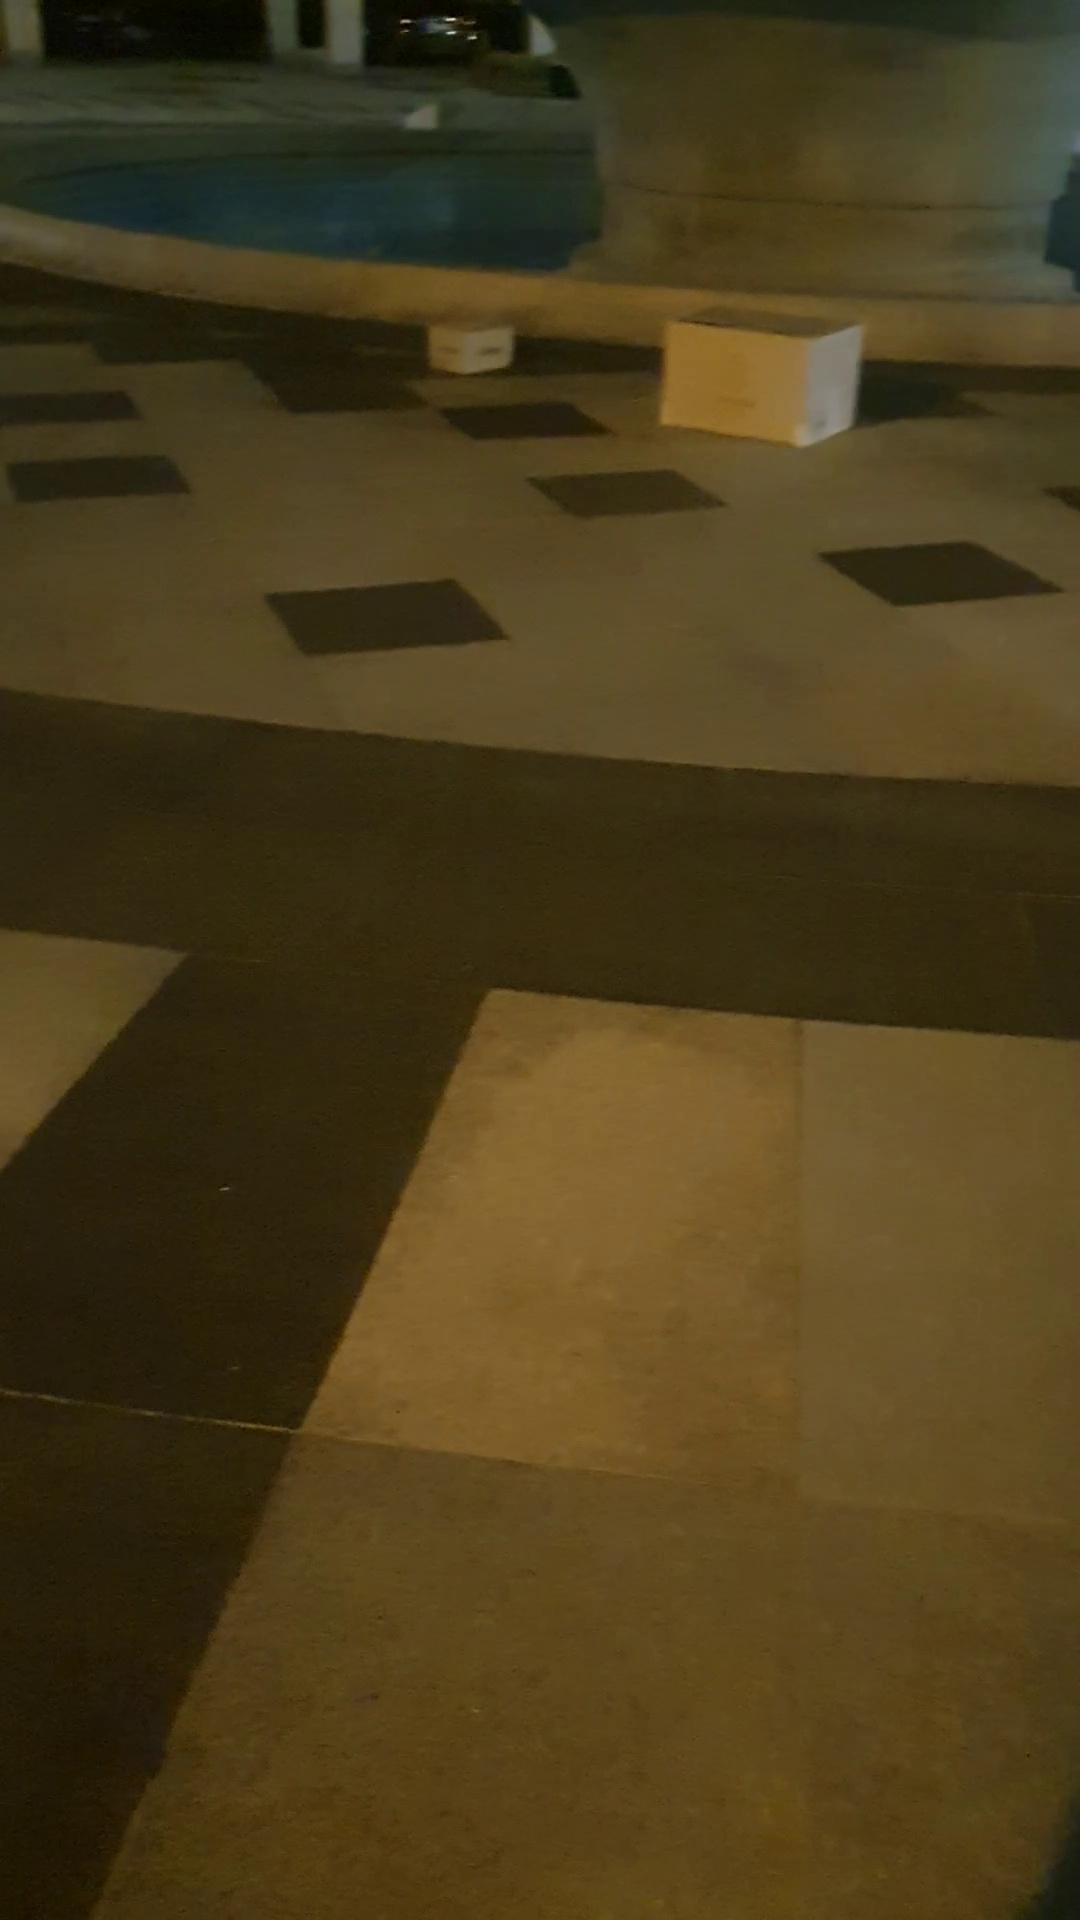Box: (666, 298, 852, 443), (418, 303, 516, 398)
